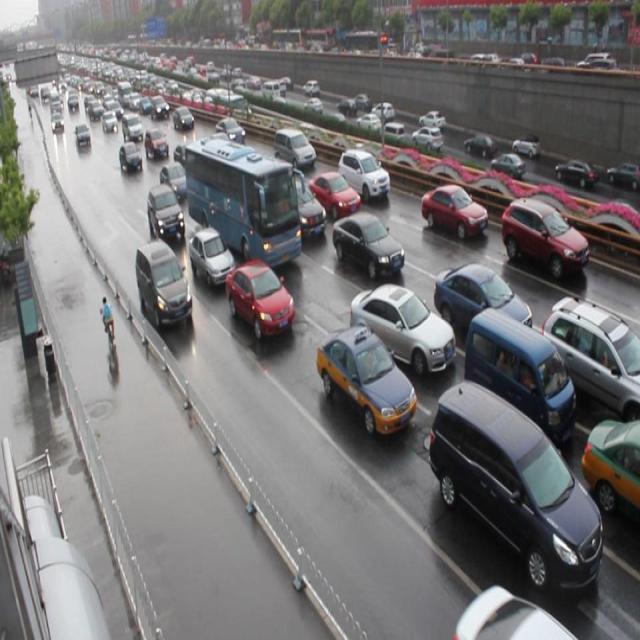car: (540, 294, 640, 422), (317, 326, 416, 435), (350, 282, 456, 378), (434, 261, 532, 340), (452, 580, 574, 640), (500, 195, 588, 278), (580, 415, 640, 522), (224, 258, 295, 337), (332, 210, 404, 277), (420, 182, 487, 240), (275, 177, 329, 240), (337, 147, 390, 201), (188, 226, 235, 285), (308, 170, 360, 220), (147, 183, 186, 239), (159, 161, 188, 197), (215, 115, 245, 148)
truck: (432, 380, 602, 590), (464, 306, 572, 443), (136, 239, 192, 326), (273, 126, 316, 172)
van: (186, 136, 302, 268)
